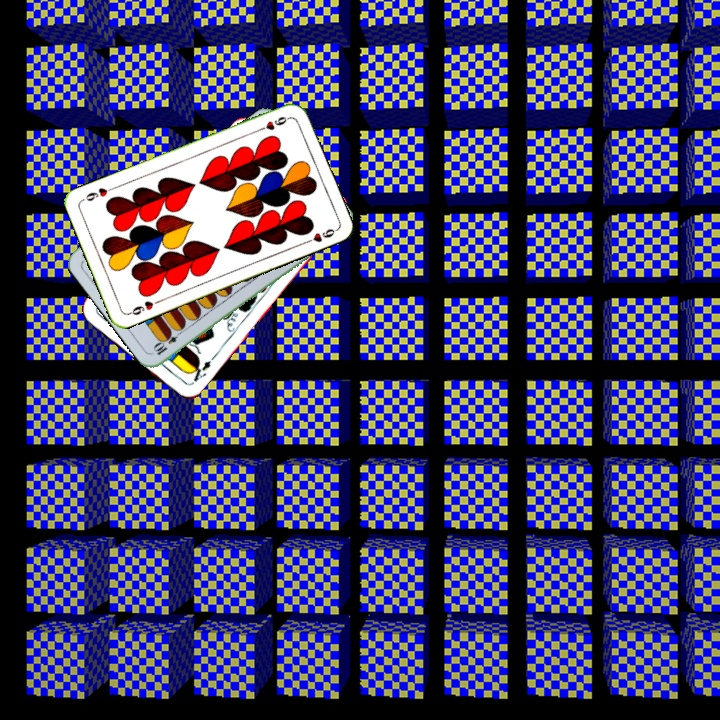E10: (150, 325, 185, 358)
EA: (185, 356, 214, 387)
H9: (124, 296, 163, 318), (254, 112, 292, 134)
